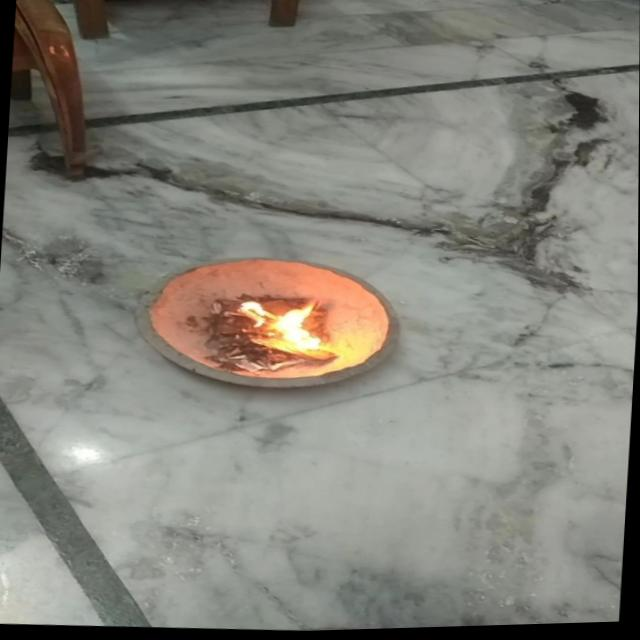fire: (221, 293, 337, 362)
